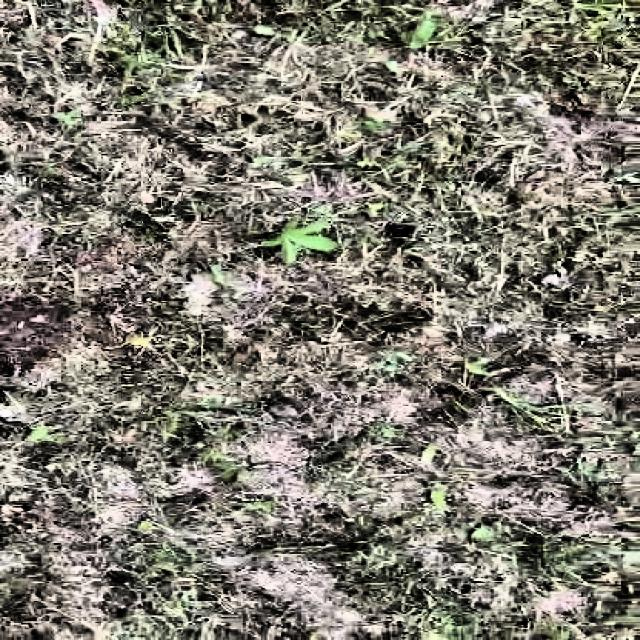Weeds: (260, 220, 338, 266)
